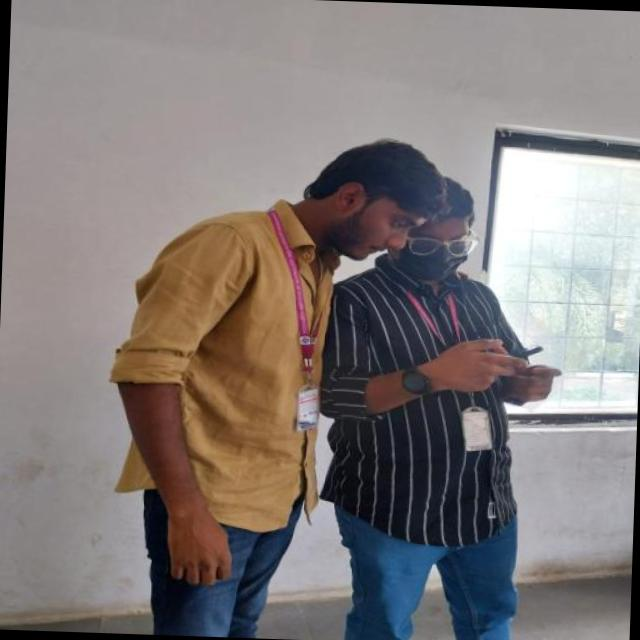id_card: (398, 262, 498, 459), (266, 200, 330, 438)
